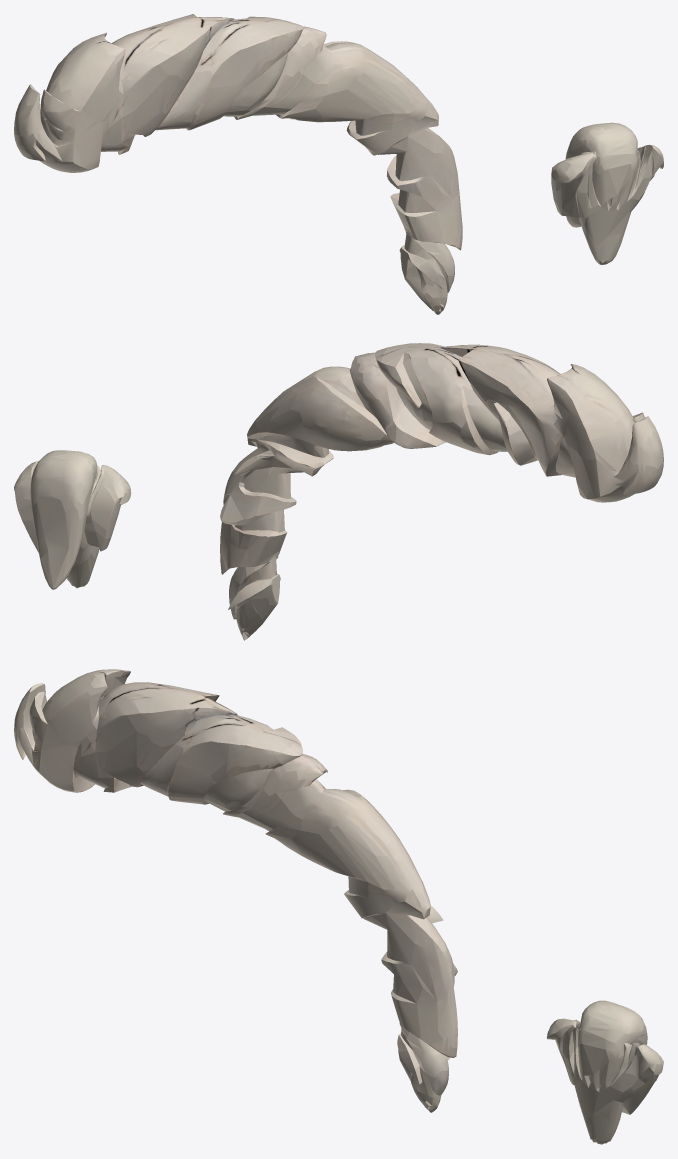
File: thalor_m-chignon-homme-crete.glb
The picture shows the model from 3 angles, top to bottom: view 1: azimuth 30°, elevation 25°; view 2: azimuth 150°, elevation 25°; view 3: azimuth 330°, elevation 25°; orthographic projection.
Parts seen in each view (by area): view 1: geometry_0; view 2: geometry_0; view 3: geometry_0.
Boxes of the visible parts, x1,y1,x2,y2 form: geometry_0: (14,14,663,314); geometry_0: (14,343,663,640); geometry_0: (14,669,663,1144).
Bounding box in the file's own units: 1.9 × 0.9956 × 0.1999.
Materials: 1 (1 with a texture image).
